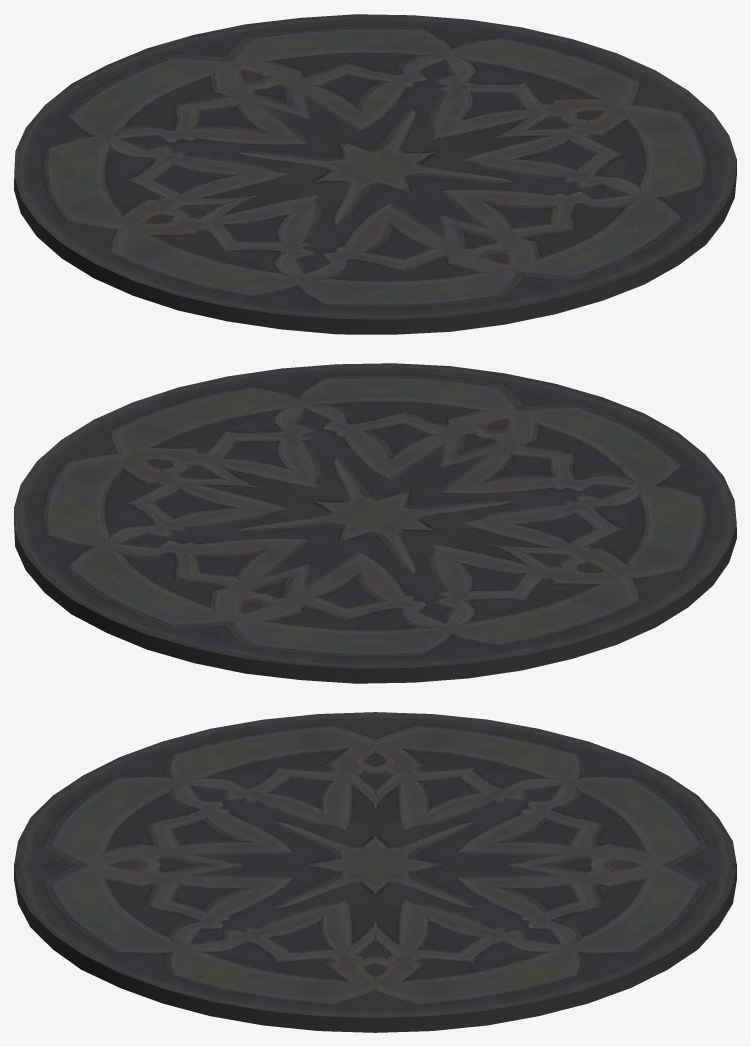
File: Indoor_MdBuild_Church01_Stairs_1645_0.fbx
3 views of the same model, one above another, from view 1: azimuth 30°, elevation 25°; view 2: azimuth 150°, elevation 25°; view 3: azimuth 270°, elevation 25° (orthographic).
Parts seen in each view (by area): view 1: Indoor_MdBuild_Church01_Stairs_1645_0; view 2: Indoor_MdBuild_Church01_Stairs_1645_0; view 3: Indoor_MdBuild_Church01_Stairs_1645_0.
Part boxes in pixels (<box>): Indoor_MdBuild_Church01_Stairs_1645_0: <box>14,14,736,334</box>; Indoor_MdBuild_Church01_Stairs_1645_0: <box>14,363,736,683</box>; Indoor_MdBuild_Church01_Stairs_1645_0: <box>14,712,736,1032</box>.
Bounding box in the file's own units: 5.54 × 0.125 × 5.53.
